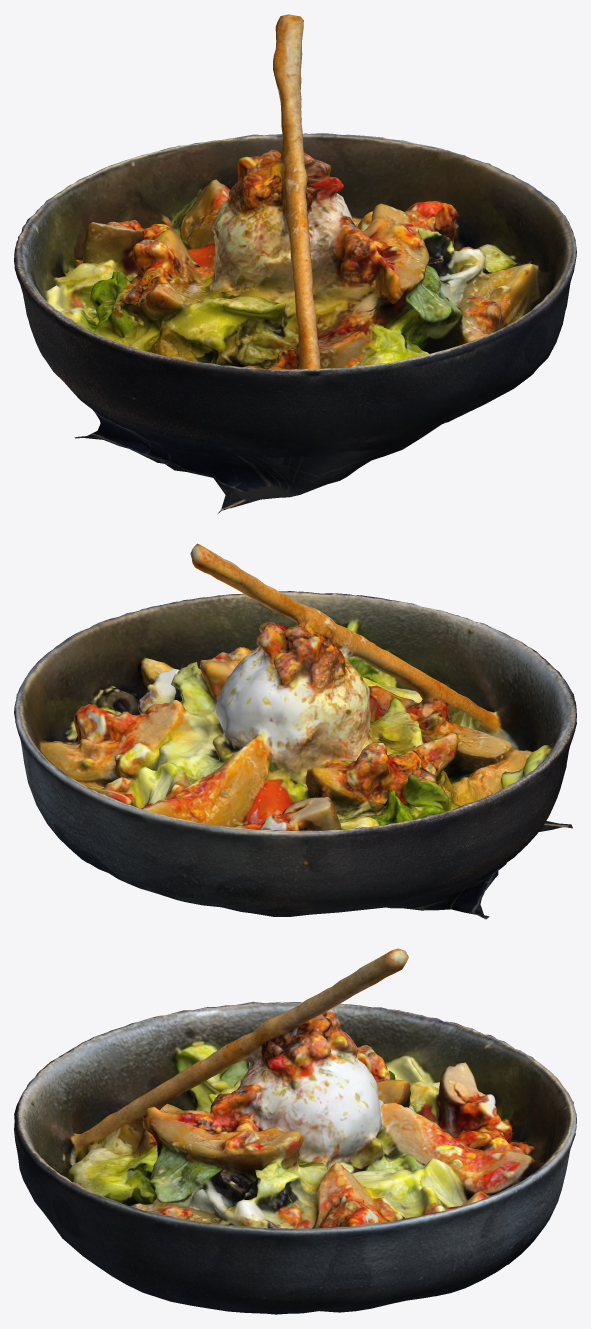
The model's file is Maqdus Salad Breakfast.glb.
3 renders of one model, top to bottom at view 1: azimuth 30°, elevation 25°; view 2: azimuth 150°, elevation 25°; view 3: azimuth 270°, elevation 25°, orthographic.
Visible parts, largest first — view 1: ObjectCapture; view 2: ObjectCapture; view 3: ObjectCapture.
Boxes of the visible parts, x1,y1,x2,y2 form: ObjectCapture: (14, 14, 576, 514); ObjectCapture: (14, 543, 576, 919); ObjectCapture: (14, 948, 576, 1314).
Size of the model in its own units: 0.2067 by 0.1368 by 0.2079.
Materials: 1 (1 with a texture image).
